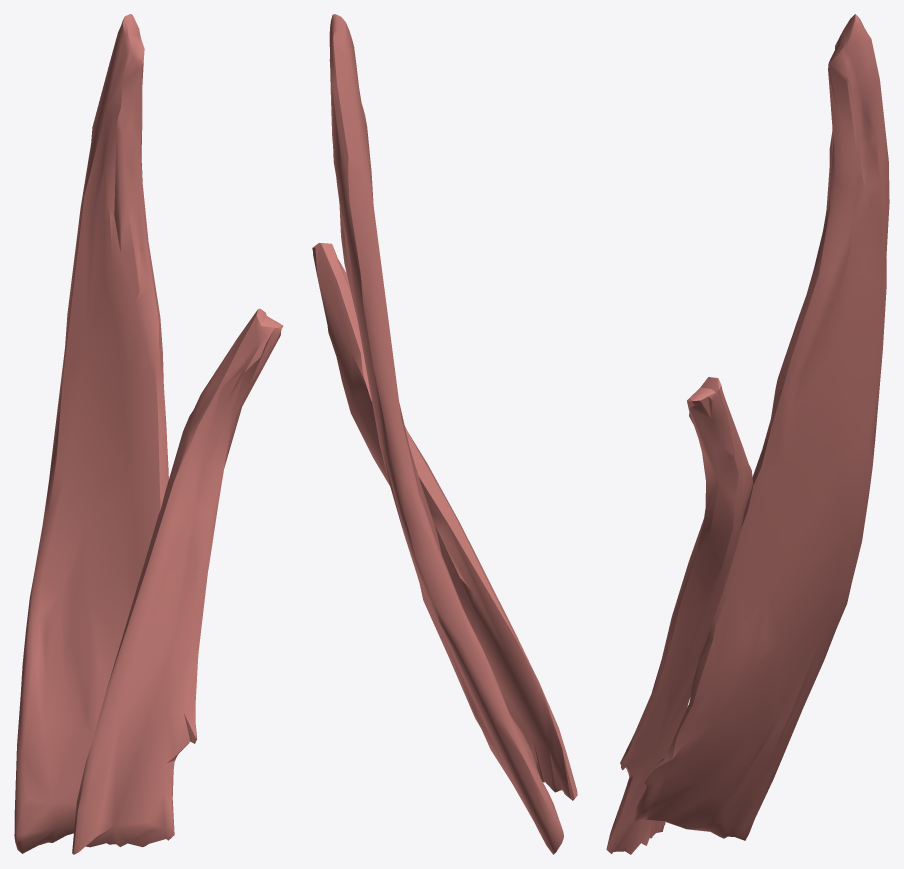
File: fma82388_mm4009m.glb
The picture shows the model from 3 angles, left to right: view 1: azimuth 30°, elevation 25°; view 2: azimuth 150°, elevation 25°; view 3: azimuth 270°, elevation 25°; orthographic projection. The views are drawn at different scales.
Visible parts, largest first — view 1: FMA82388_MM4009M; view 2: FMA82388_MM4009M; view 3: FMA82388_MM4009M.
Part boxes in pixels (x1,y1,x2,y2): FMA82388_MM4009M: (14,14,283,854); FMA82388_MM4009M: (312,14,577,854); FMA82388_MM4009M: (606,14,889,854).
Bounding box in the file's own units: 0.0253 × 0.0752 × 0.0211.
